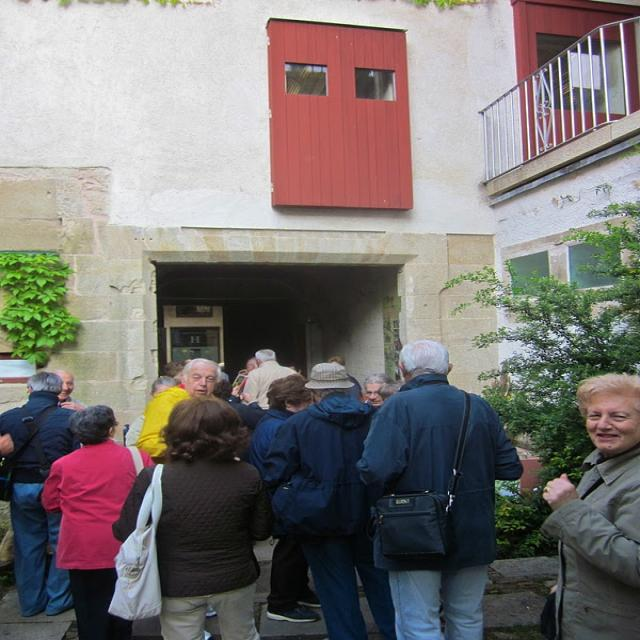body: (350, 334, 529, 640), (110, 395, 273, 640), (264, 360, 398, 638), (534, 365, 639, 639), (39, 402, 156, 640), (244, 373, 324, 624), (0, 370, 77, 618), (133, 357, 224, 460), (121, 374, 182, 450), (211, 356, 269, 425), (240, 346, 300, 409), (44, 367, 90, 415), (289, 356, 347, 382), (359, 371, 396, 410), (381, 379, 404, 404), (162, 356, 188, 378)
